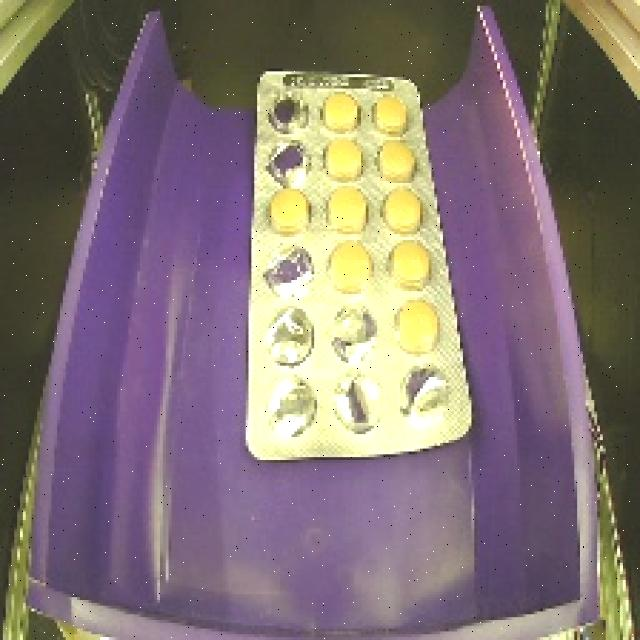med_plate: (233, 49, 484, 470)
